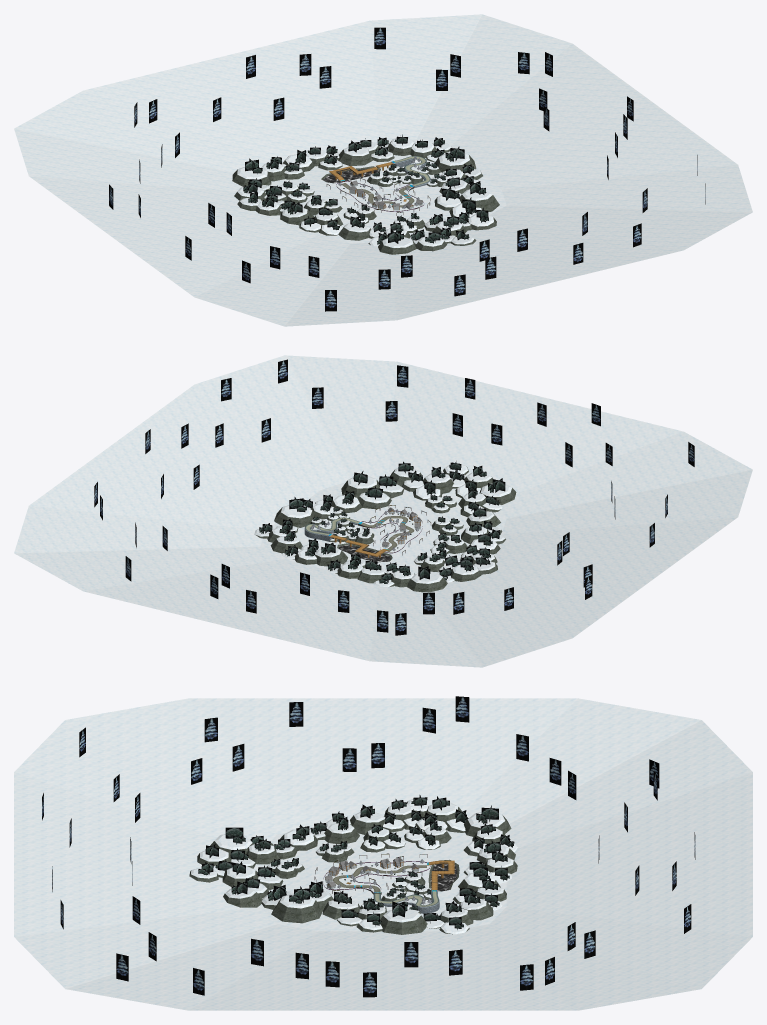
3 renders of one model, top to bottom at view 1: azimuth 30°, elevation 25°; view 2: azimuth 150°, elevation 25°; view 3: azimuth 270°, elevation 25°, orthographic. The views are drawn at different scales.
Parts seen in each view (by area): view 1: obj_snowMesh, obj_treebgMesh, obj_bushMesh, obj_rockMesh.001; view 2: obj_snowMesh, obj_treebgMesh, obj_bushMesh, obj_rockMesh.001; view 3: obj_snowMesh, obj_treebgMesh, obj_bushMesh, obj_rockMesh.001.
Boxes of the visible parts, bbox=[...] form: obj_snowMesh: bbox=[14, 14, 752, 326]; obj_treebgMesh: bbox=[109, 27, 705, 311]; obj_bushMesh: bbox=[243, 134, 488, 244]; obj_rockMesh.001: bbox=[232, 141, 499, 254]; obj_snowMesh: bbox=[14, 355, 752, 667]; obj_treebgMesh: bbox=[94, 359, 694, 635]; obj_bushMesh: bbox=[259, 461, 505, 583]; obj_rockMesh.001: bbox=[256, 466, 516, 592]; obj_snowMesh: bbox=[14, 698, 752, 1010]; obj_treebgMesh: bbox=[42, 696, 695, 997]; obj_bushMesh: bbox=[198, 795, 514, 929]; obj_rockMesh.001: bbox=[189, 801, 517, 934].
Bounding box in the file's own units: 423878 × 37818 × 423878.
24 materials, 24 textured.
